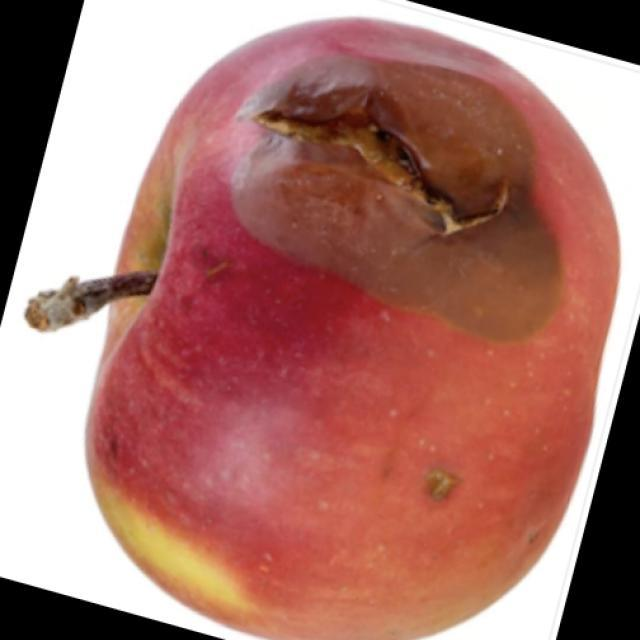Rotten: (101, 41, 618, 640)
